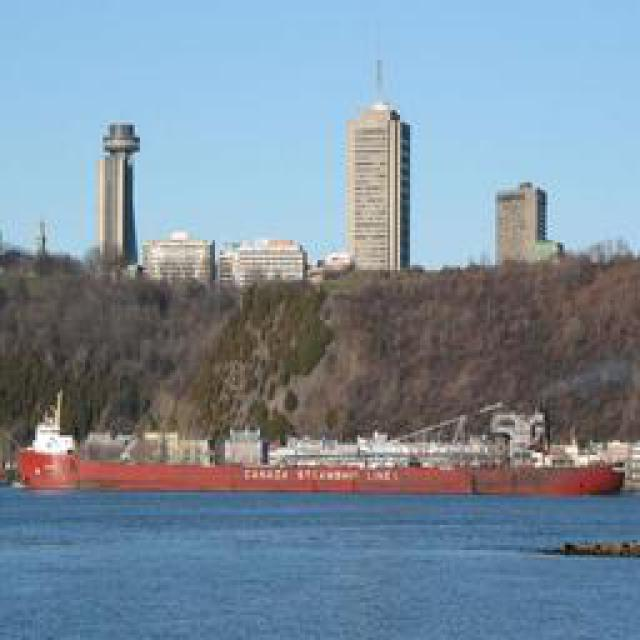Ship: (28, 437, 636, 505)
